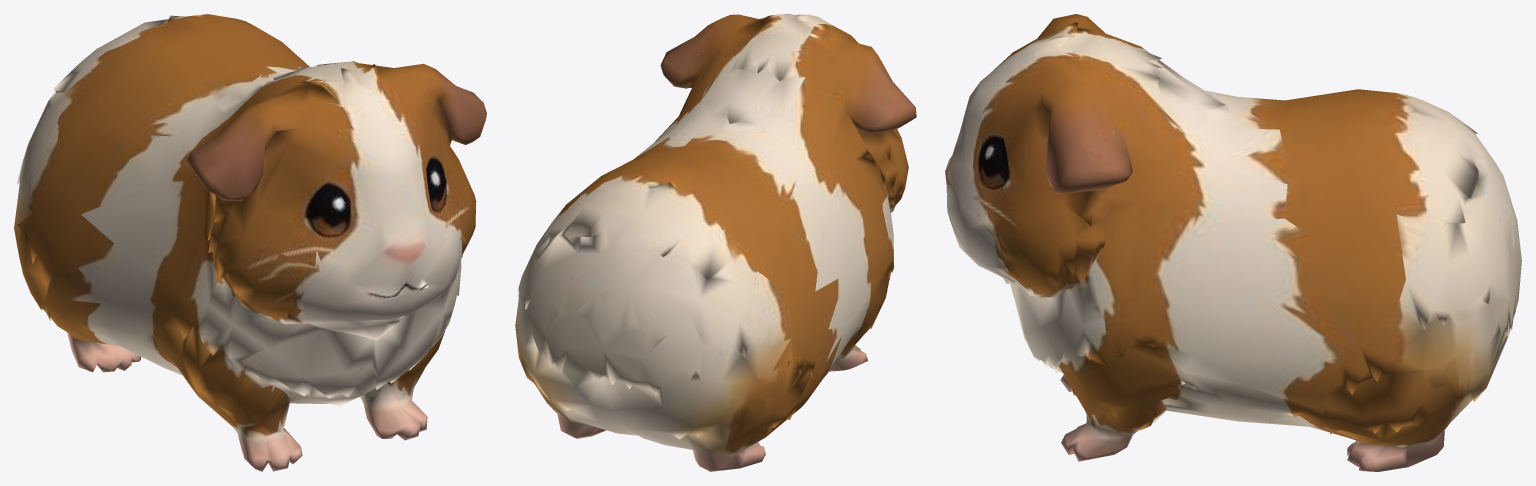
File: guineapig.glb
3 views of the same model, side by side, from view 1: azimuth 30°, elevation 25°; view 2: azimuth 150°, elevation 25°; view 3: azimuth 270°, elevation 25° (orthographic). The views are drawn at different scales.
Visible parts, largest first — view 1: model; view 2: model; view 3: model.
Boxes of the visible parts, box(x1,y1,x2,y2) form: model: box(14, 14, 486, 471); model: box(515, 14, 916, 471); model: box(945, 14, 1521, 471).
Bounding box in the file's own units: 1.21 × 1.41 × 1.9.
Materials: 1 (1 with a texture image).
